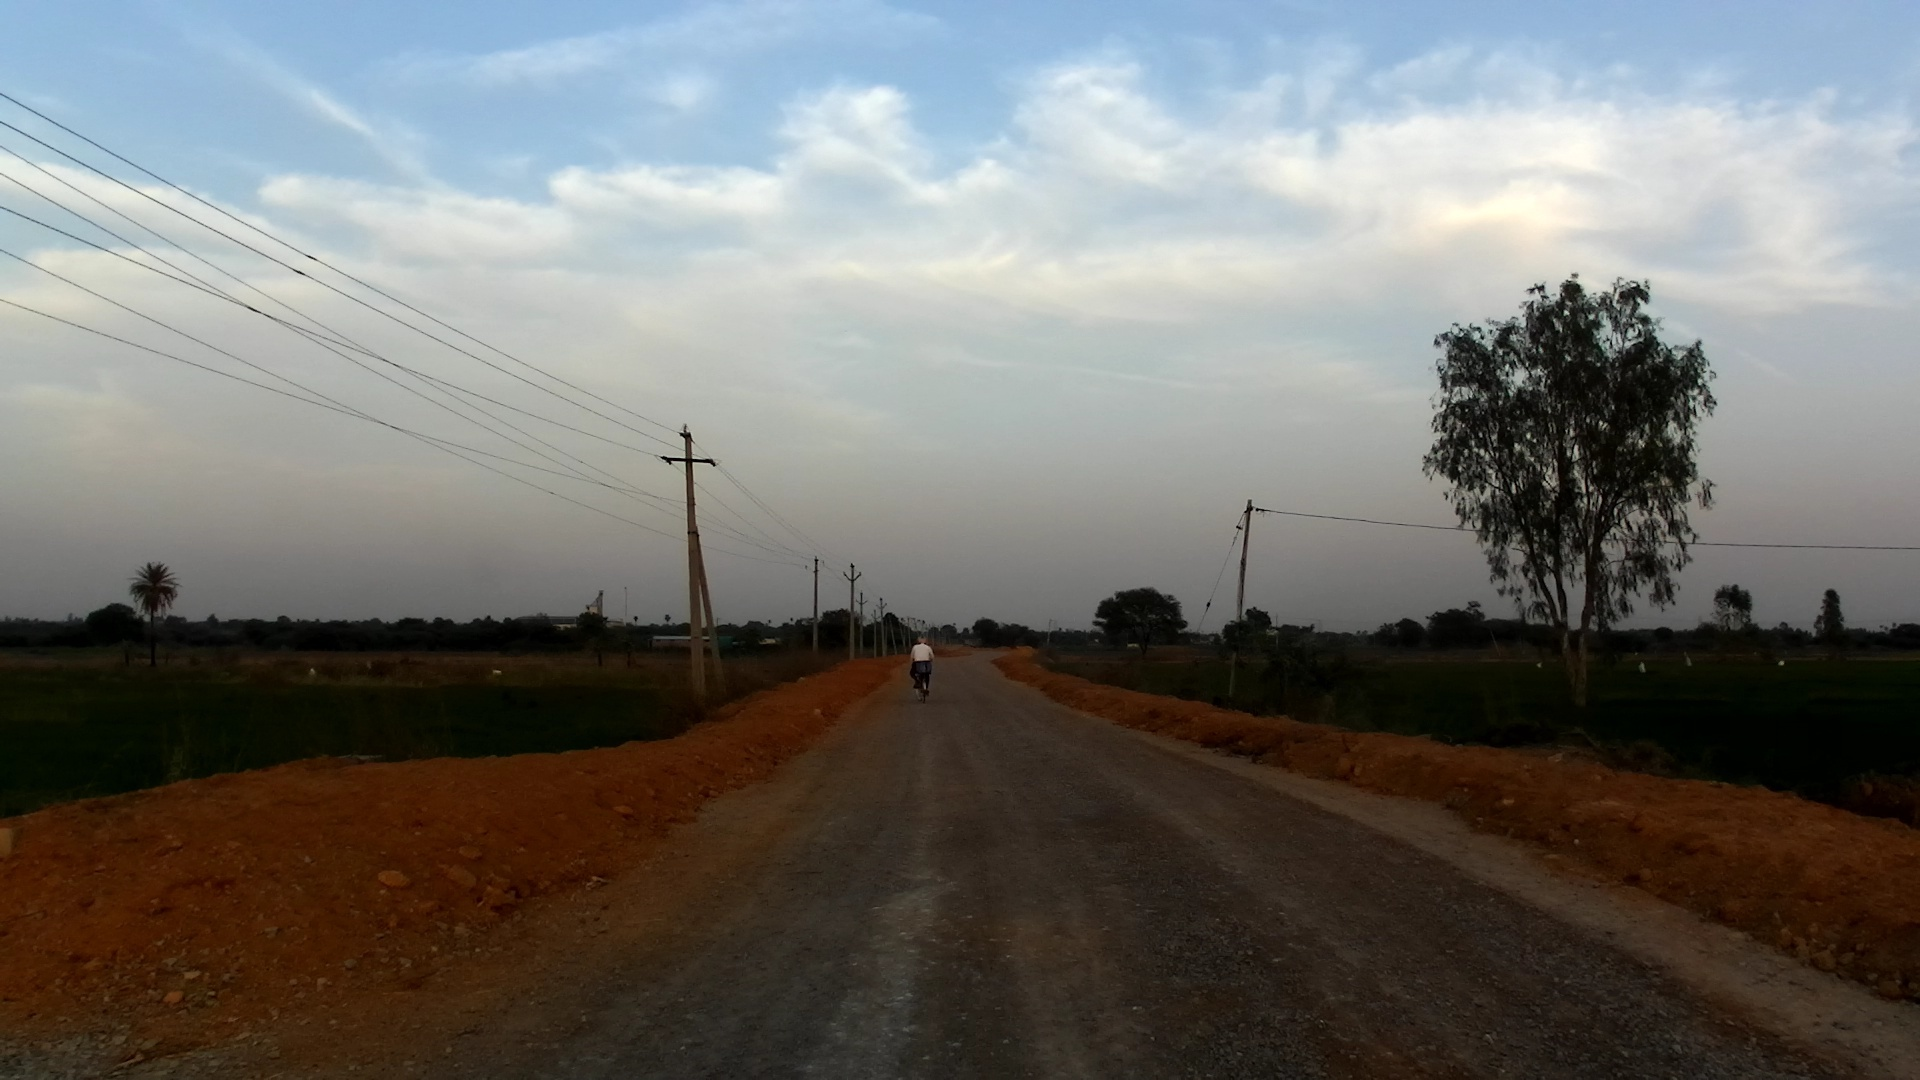bicycle: (910, 657, 937, 704)
rider: (908, 636, 936, 698)
